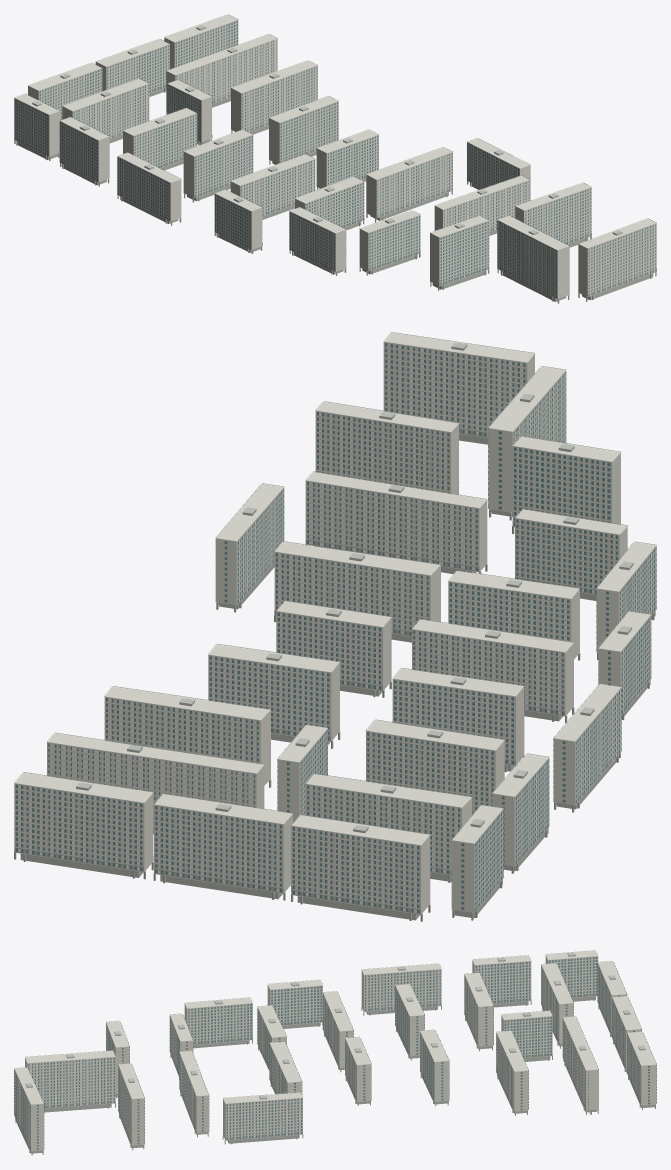
Rendered from representative-a13822702.glb.
The picture shows the model from 3 angles, top to bottom: view 1: azimuth 30°, elevation 25°; view 2: azimuth 150°, elevation 25°; view 3: azimuth 270°, elevation 25°; orthographic projection. The views are drawn at different scales.
Visible parts, largest first — view 1: A13822702_wall, A13822702_trim, A13822702_glass, A13822702_accent, A13822702_base, A13822702_roof; view 2: A13822702_wall, A13822702_trim, A13822702_glass, A13822702_accent, A13822702_base, A13822702_roof; view 3: A13822702_wall, A13822702_trim, A13822702_glass, A13822702_base, A13822702_roof.
Boxes of the visible parts, bbox=[...] form: A13822702_wall: bbox=[14, 14, 656, 298]; A13822702_trim: bbox=[14, 14, 656, 298]; A13822702_glass: bbox=[14, 21, 656, 297]; A13822702_accent: bbox=[14, 84, 557, 298]; A13822702_base: bbox=[14, 84, 656, 303]; A13822702_roof: bbox=[32, 25, 622, 235]; A13822702_wall: bbox=[14, 332, 655, 914]; A13822702_trim: bbox=[14, 332, 656, 914]; A13822702_glass: bbox=[15, 343, 656, 913]; A13822702_accent: bbox=[237, 371, 656, 909]; A13822702_base: bbox=[14, 428, 656, 921]; A13822702_roof: bbox=[76, 342, 633, 833]; A13822702_wall: bbox=[14, 950, 656, 1150]; A13822702_trim: bbox=[14, 950, 656, 1148]; A13822702_glass: bbox=[14, 957, 656, 1149]; A13822702_base: bbox=[14, 993, 655, 1155]; A13822702_roof: bbox=[25, 952, 645, 1099].
Size of the model in its own units: 306 by 46.2 by 515.
